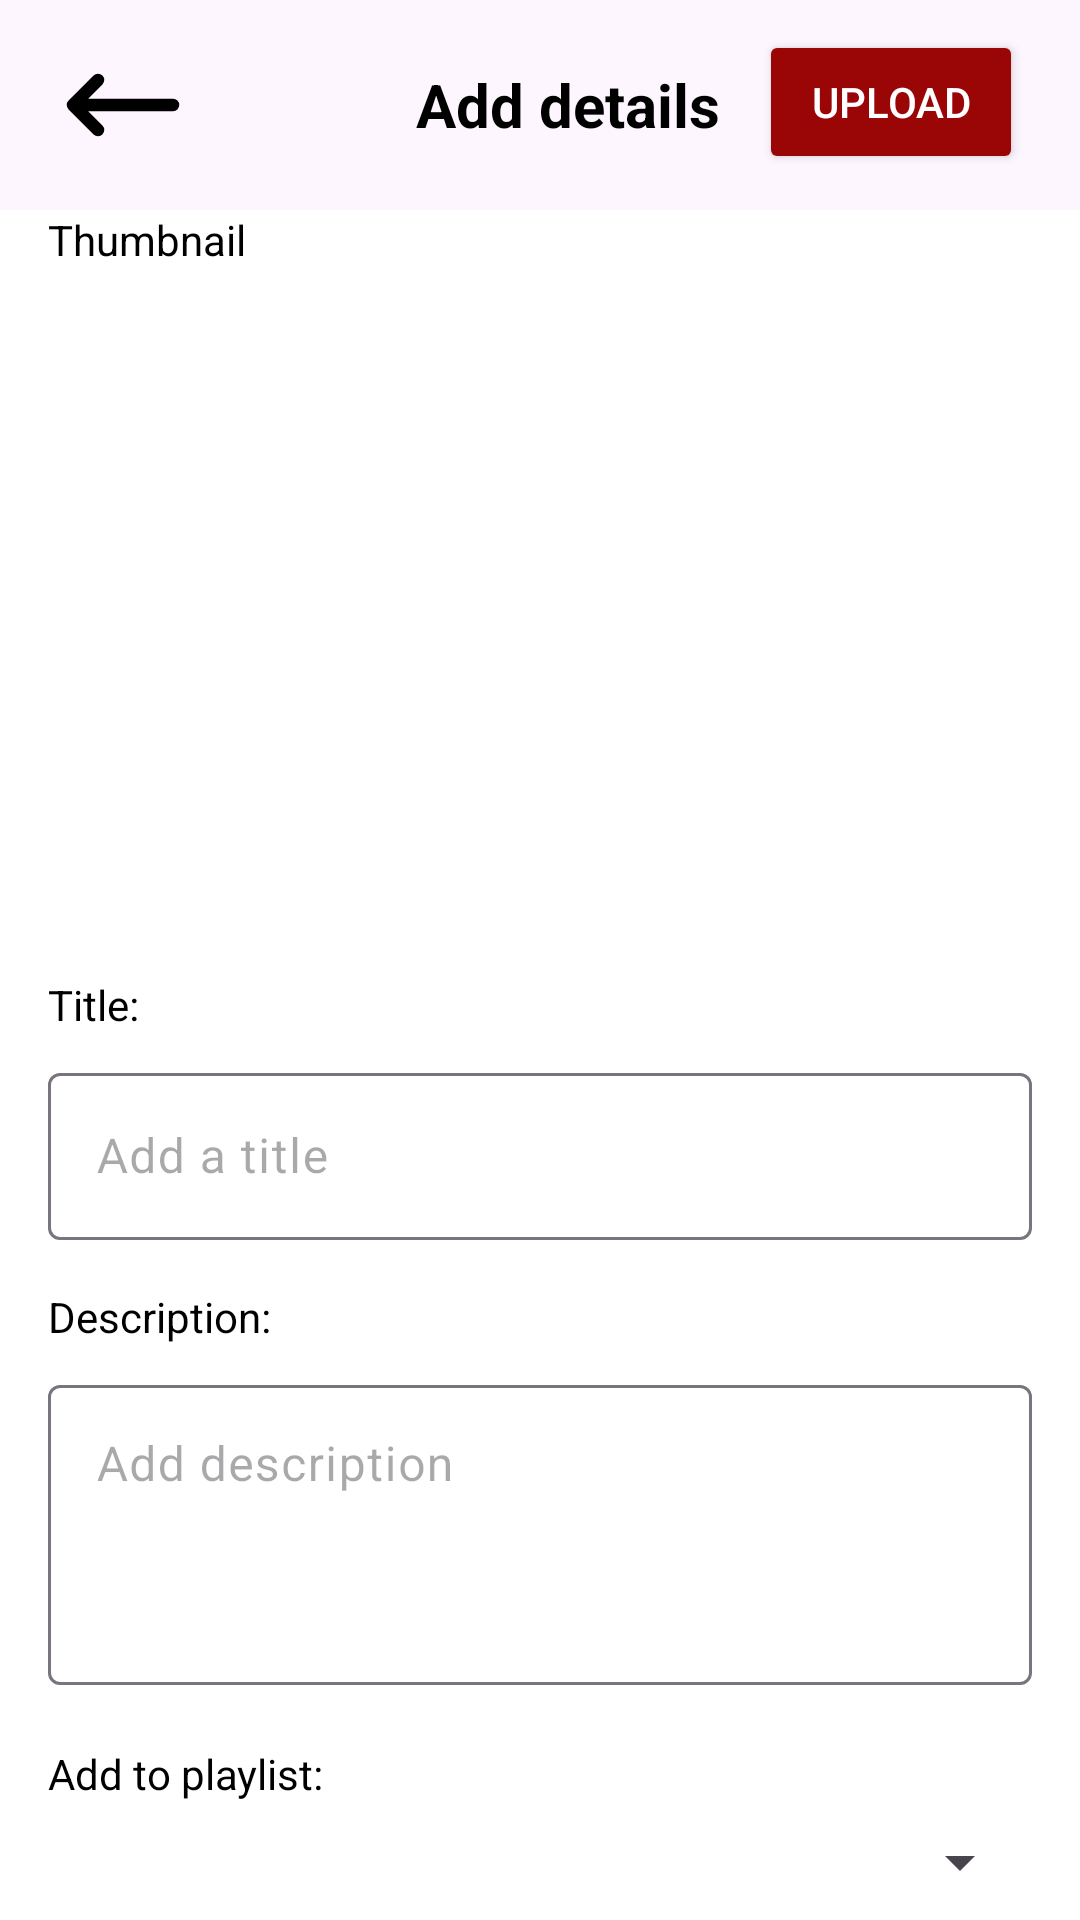

Icons on this 1080 × 1920 Android screen, each with its box as (x1, y1, x2, y2):
backarrow: (66, 73, 180, 137)
